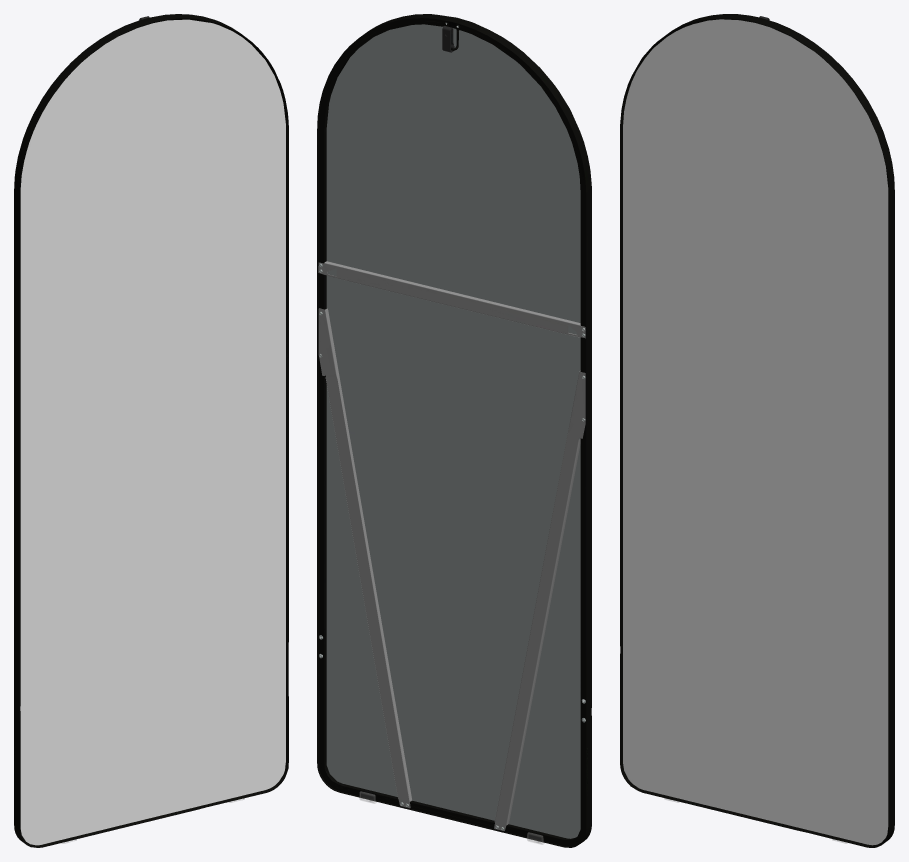
The model's file is lindbyn_lustro_80597232.glb.
3 renders of one model, left to right at view 1: azimuth 30°, elevation 25°; view 2: azimuth 150°, elevation 25°; view 3: azimuth 330°, elevation 25°, orthographic.
Parts seen in each view (by area): view 1: lindbyn_lustro_80597232; view 2: lindbyn_lustro_80597232; view 3: lindbyn_lustro_80597232.
Boxes of the visible parts, x1,y1,x2,y2 form: lindbyn_lustro_80597232: (14,14,288,847); lindbyn_lustro_80597232: (317,14,591,847); lindbyn_lustro_80597232: (620,14,894,847).
Size of the model in its own units: 0.6001 by 1.71 by 0.043.
Materials: 2 (2 with a texture image).
